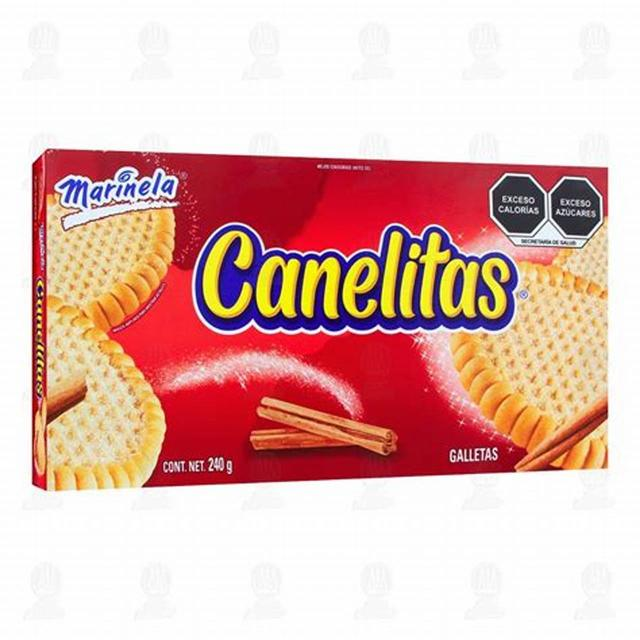Caja: (21, 129, 624, 507)
